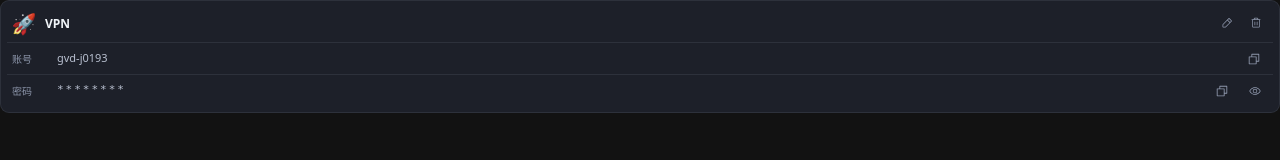
Scenario: ItemRow › toggles the visible password value from the action button
Expected: the text "********" is shown, 57,82 -> 126,99
What coordinates should you click on to do the following:
click the button with test id "toggle-password-password-1"
I would click on:
 (1255, 90)
Its box is 1242,78 -> 1268,104.
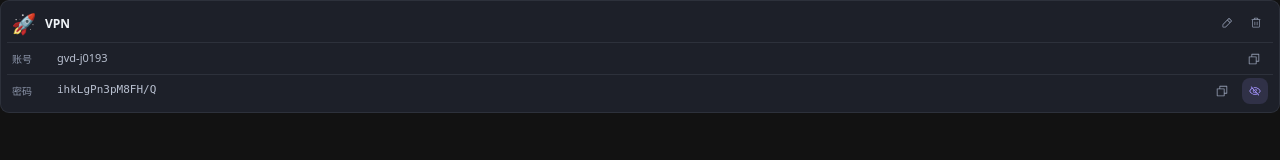
Expected: the text "ihkLgPn3pM8FH/Q" is shown, 57,82 -> 156,99
